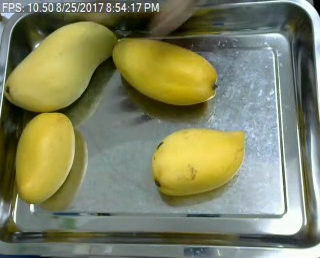Mango: (2, 20, 120, 112), (112, 37, 219, 109), (149, 128, 247, 198), (12, 112, 76, 205)
